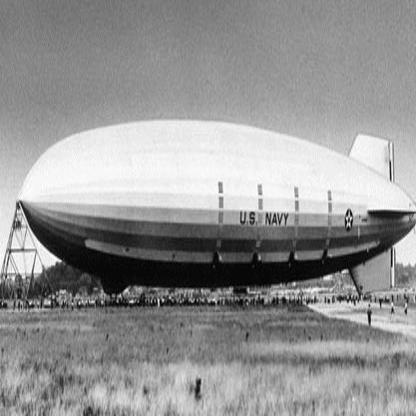Airship: (13, 119, 416, 301)
